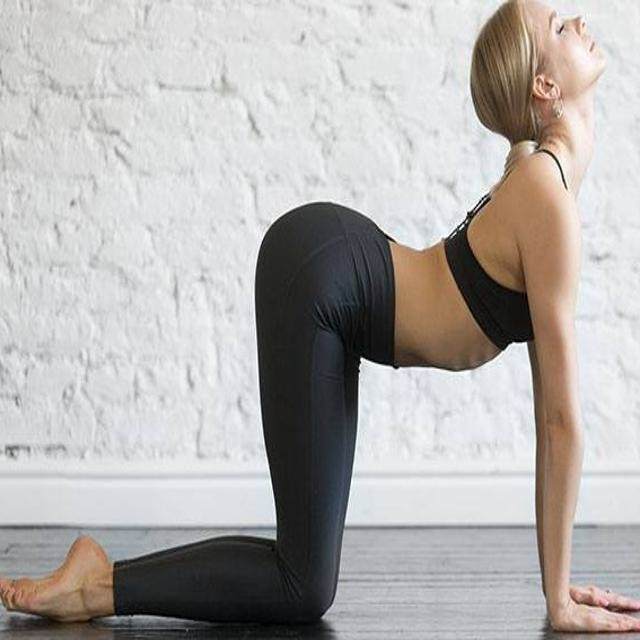Cow_Pose: (7, 1, 636, 631)
